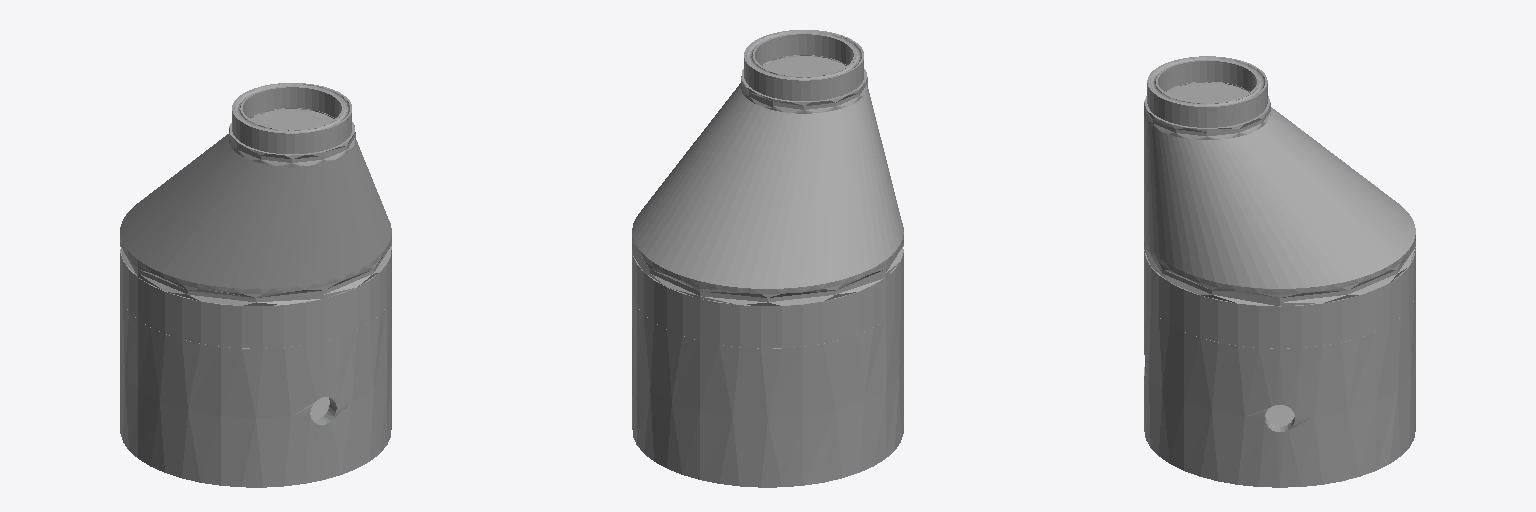
The model's file is manhole_inner_2kfaces.obj.
3 renders of one model, left to right at view 1: azimuth 30°, elevation 25°; view 2: azimuth 150°, elevation 25°; view 3: azimuth 270°, elevation 25°, orthographic.
Parts seen in each view (by area): view 1: manhole_inner; view 2: manhole_inner; view 3: manhole_inner.
Part boxes in pixels (x1,y1,x2,y2): manhole_inner: (120, 83, 391, 487); manhole_inner: (632, 30, 903, 487); manhole_inner: (1144, 56, 1415, 487).
Bounding box in the file's own units: 70.11 × 99.22 × 70.1.